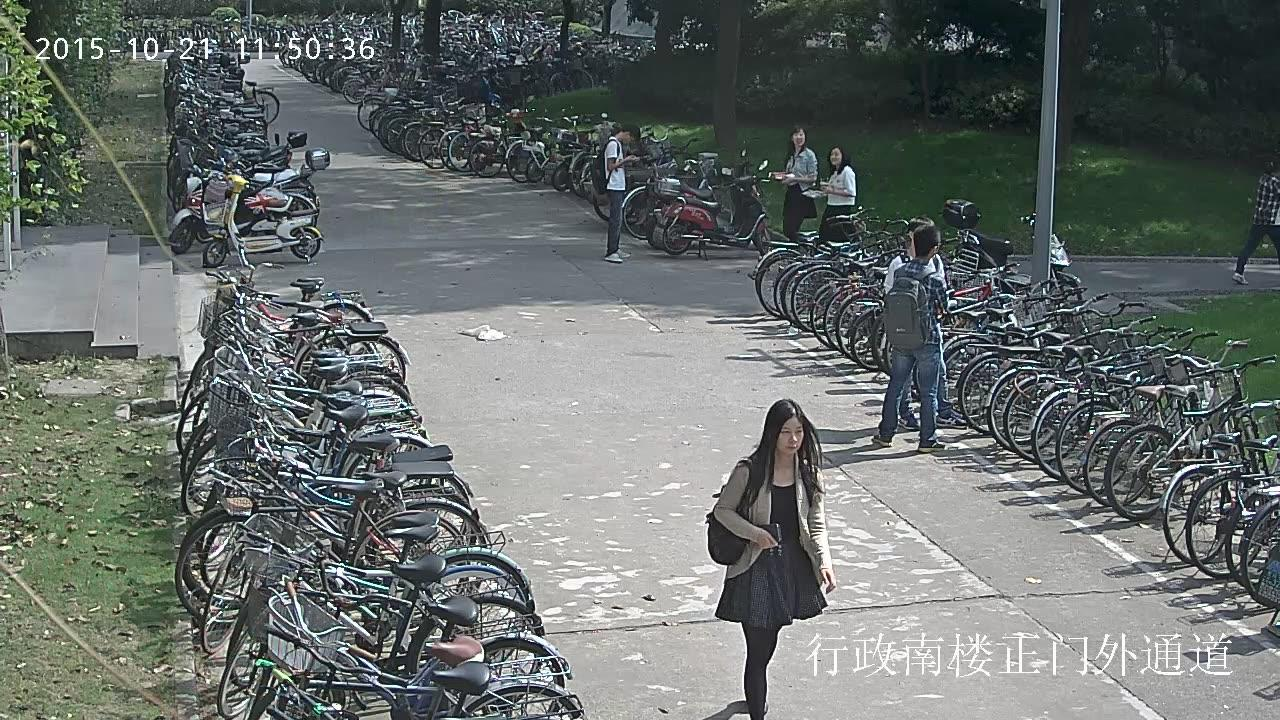person: (706, 399, 836, 717), (885, 217, 966, 430), (873, 225, 948, 452), (1231, 160, 1280, 283), (769, 127, 819, 238), (801, 144, 855, 243), (602, 126, 639, 262)
